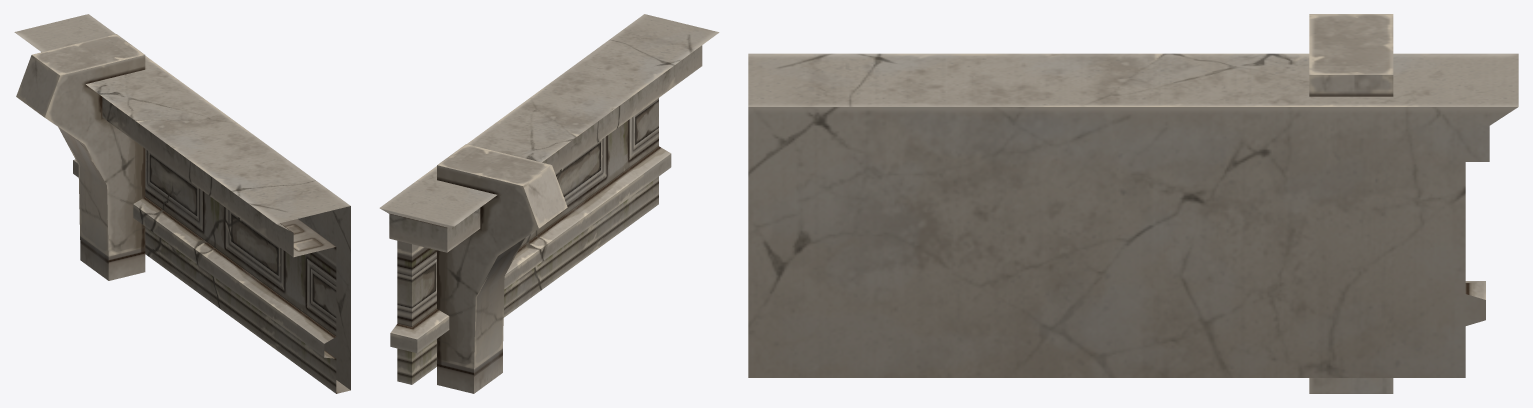
File: cornice03_endL.fbx
3 views of the same model, side by side, from view 1: azimuth 30°, elevation 25°; view 2: azimuth 150°, elevation 25°; view 3: azimuth 270°, elevation 25° (orthographic). The views are drawn at different scales.
Visible parts, largest first — view 1: cornice03_endL; view 2: cornice03_endL; view 3: cornice03_endL.
Part boxes in pixels (x1=…): cornice03_endL: x1=14, y1=14, x2=350, y2=393; cornice03_endL: x1=379, y1=14, x2=719, y2=393; cornice03_endL: x1=748, y1=14, x2=1518, y2=393.
Bounding box in the file's own units: 81.64 × 147 × 322.
